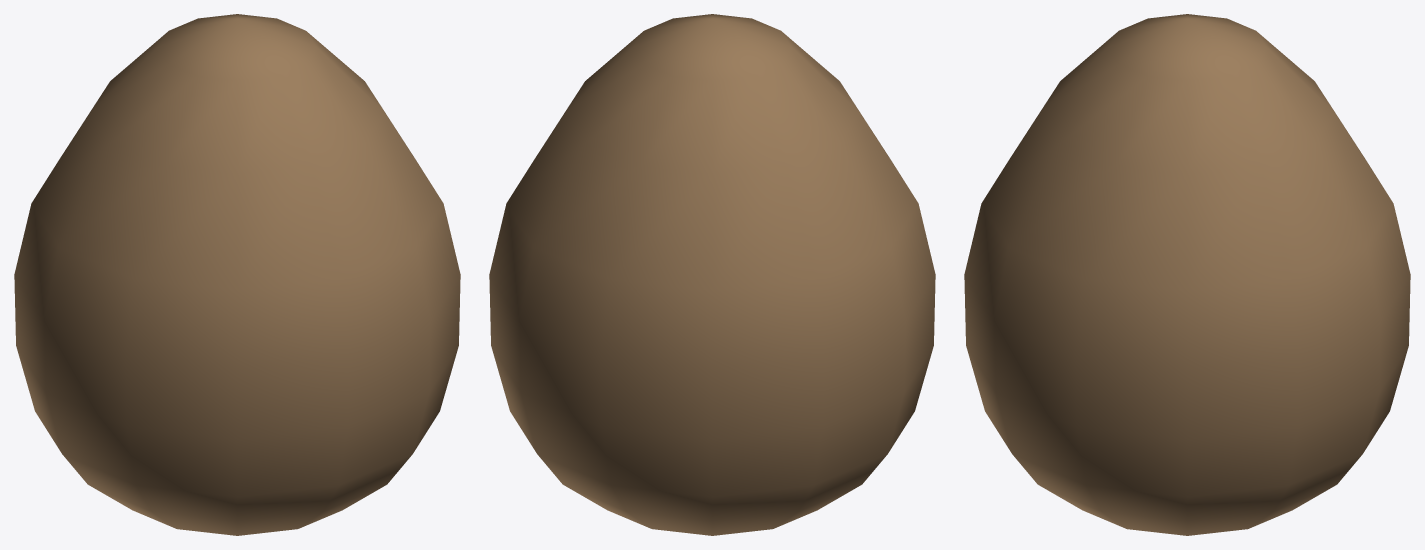
The model's file is Item_Boiled_01.glb.
The picture shows the model from 3 angles, left to right: view 1: azimuth 30°, elevation 25°; view 2: azimuth 150°, elevation 25°; view 3: azimuth 270°, elevation 25°; orthographic projection.
Visible parts, largest first — view 1: Item_Boiled_01; view 2: Item_Boiled_01; view 3: Item_Boiled_01.
Boxes of the visible parts, x1,y1,x2,y2 form: Item_Boiled_01: (14, 14, 460, 535); Item_Boiled_01: (489, 14, 935, 535); Item_Boiled_01: (964, 14, 1410, 535).
Bounding box in the file's own units: 0.2588 × 0.3187 × 0.2588.
1 material, 1 textured.
